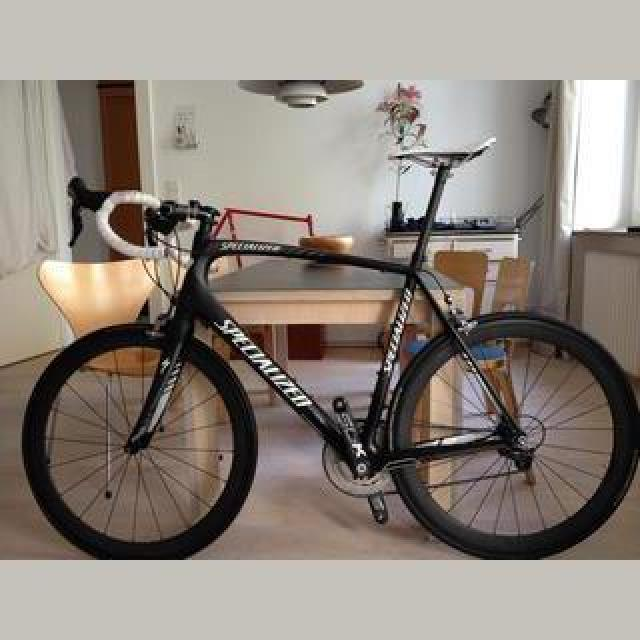Person: (14, 118, 632, 560)
